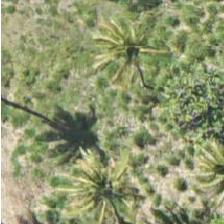Kelapa_Sawit: (86, 1, 176, 91), (49, 133, 139, 223), (171, 121, 223, 212)
